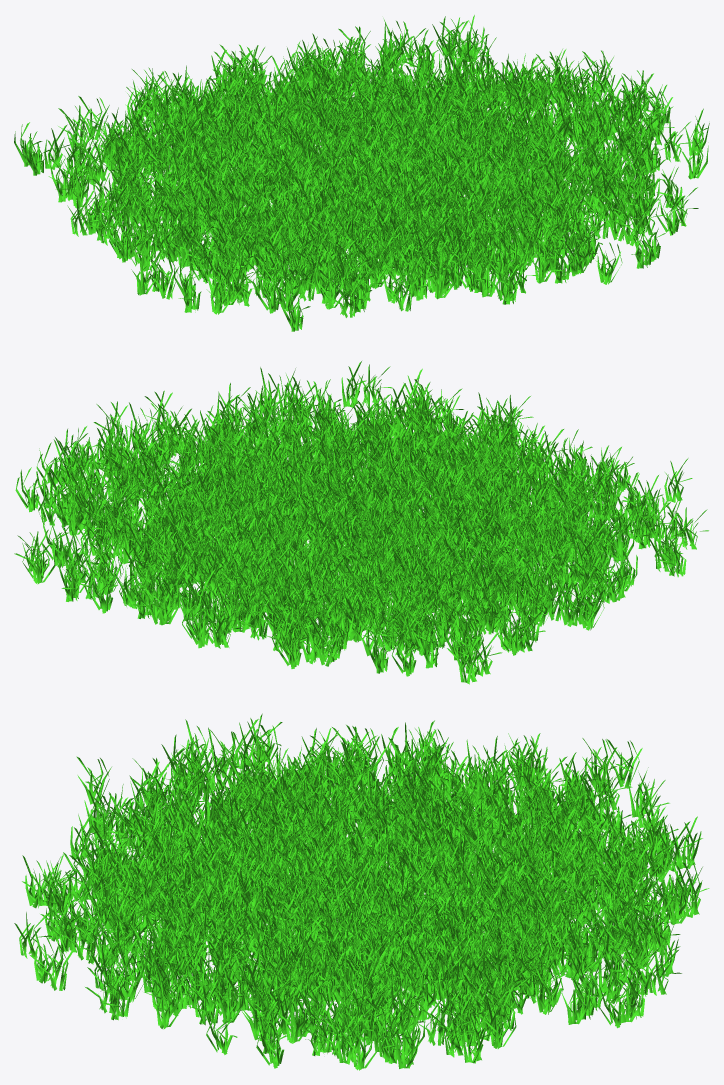
File: GrosseMotteherbeLow.glb
3 views of the same model, one above another, from view 1: azimuth 30°, elevation 25°; view 2: azimuth 150°, elevation 25°; view 3: azimuth 270°, elevation 25° (orthographic). The views are drawn at different scales.
Parts seen in each view (by area): view 1: Plane.001; view 2: Plane.001; view 3: Plane.001.
Part boxes in pixels (<box>): Plane.001: <box>14,15,709,331</box>; Plane.001: <box>14,361,708,684</box>; Plane.001: <box>14,713,709,1070</box>.
Size of the model in its own units: 2.9 by 0.1994 by 2.67.
